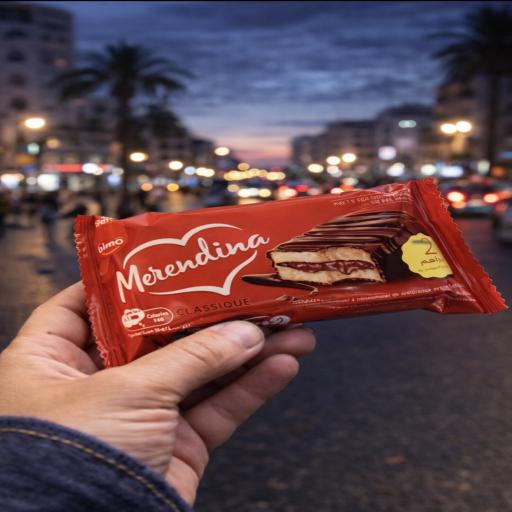merendina: (39, 162, 501, 377)
